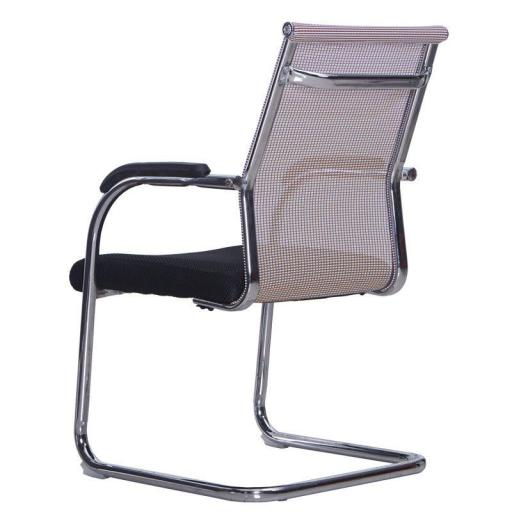bottle: (68, 20, 450, 503)
